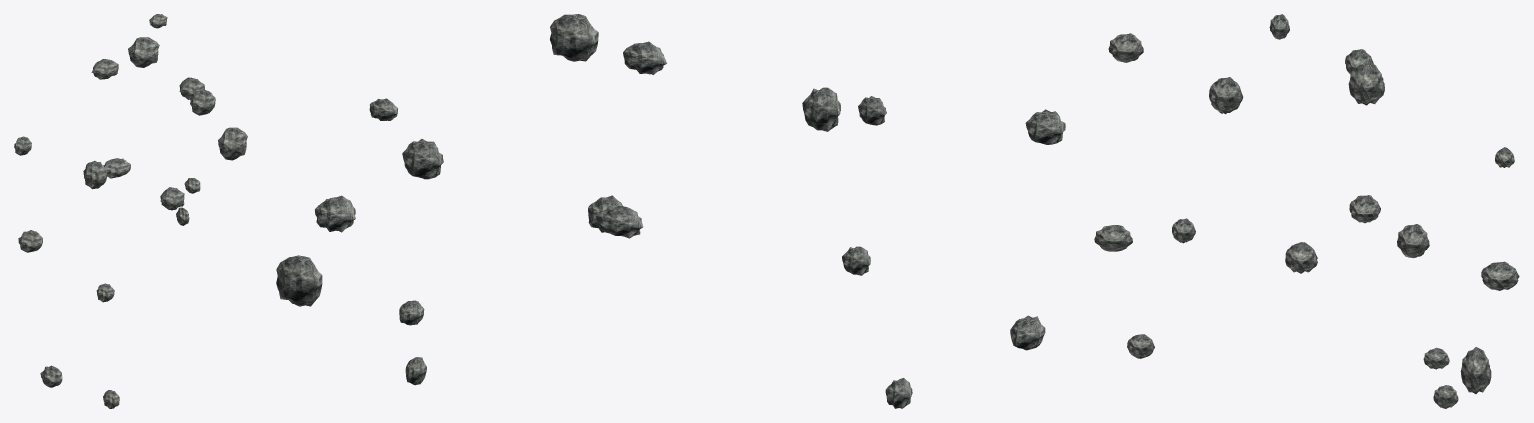
The model's file is cluster_06.glb.
3 views of the same model, side by side, from view 1: azimuth 30°, elevation 25°; view 2: azimuth 150°, elevation 25°; view 3: azimuth 270°, elevation 25° (orthographic). The views are drawn at different scales.
Visible parts, largest first — view 1: cluster; view 2: cluster; view 3: cluster.
Part boxes in pixels (box(x1,y1,x2,y2)): cluster: box(14, 14, 247, 408); cluster: box(276, 14, 1065, 408); cluster: box(1094, 14, 1519, 408).
Bounding box in the file's own units: 5.84 × 4.34 × 4.52.
Materials: 1 (1 with a texture image).
